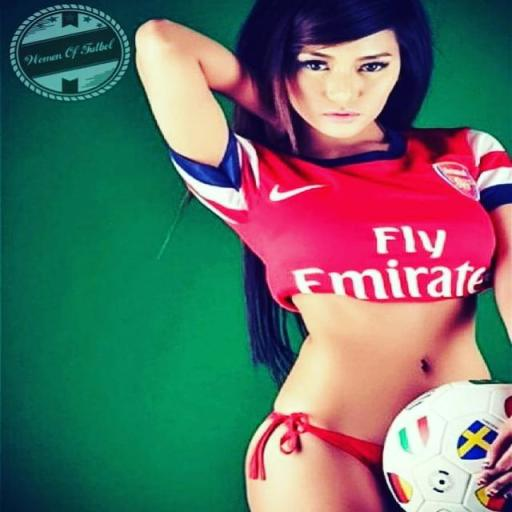Emirates: (288, 225, 488, 303)
